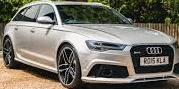Crossovers: (3, 3, 178, 88)
